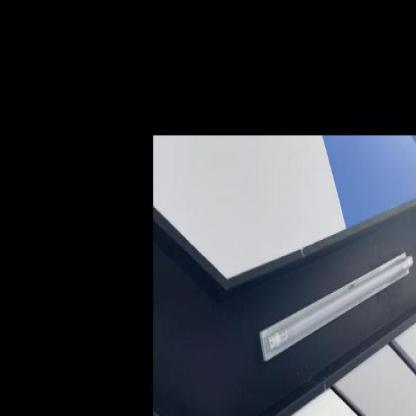light_off: (252, 236, 416, 372)
